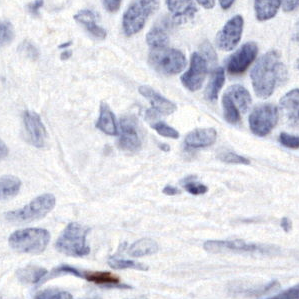Lymphocyte: (83, 268, 127, 286)
